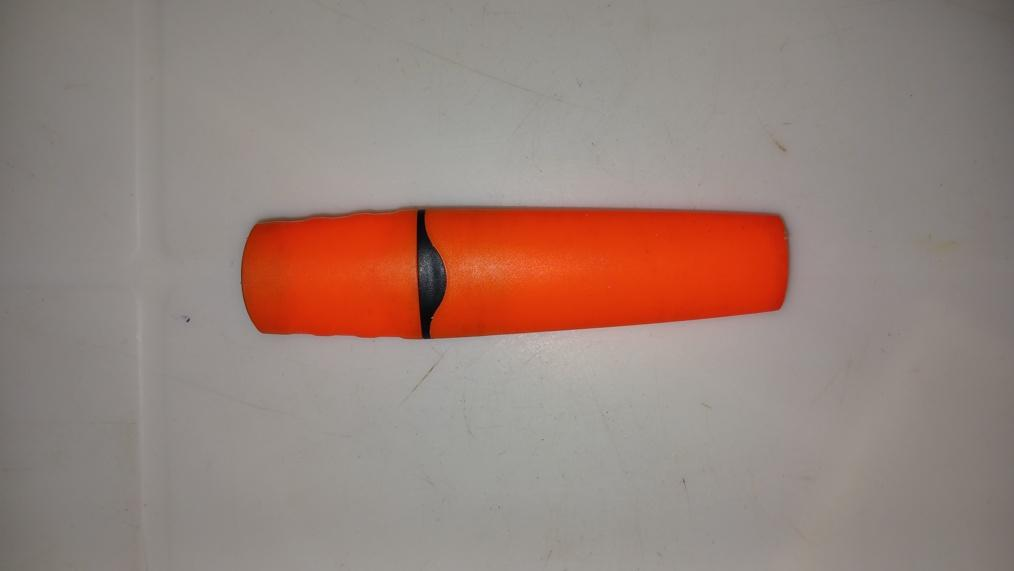Highlighter: (242, 212, 787, 337)
